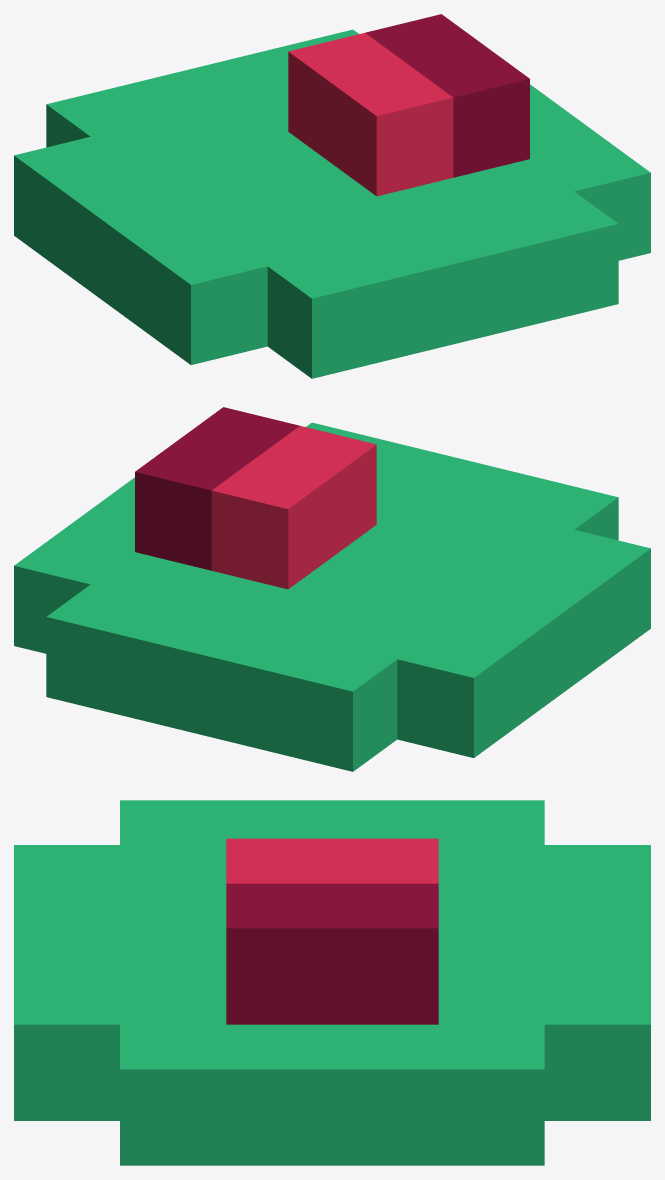
File: water-flower-01.glb
3 renders of one model, top to bottom at view 1: azimuth 30°, elevation 25°; view 2: azimuth 150°, elevation 25°; view 3: azimuth 270°, elevation 25°, orthographic. The views are drawn at different scales.
Parts seen in each view (by area): view 1: generated(Clone); view 2: generated(Clone); view 3: generated(Clone).
Part boxes in pixels (x1,y1,x2,y2): generated(Clone): [14, 14, 650, 378]; generated(Clone): [14, 407, 650, 771]; generated(Clone): [14, 800, 650, 1165].
Size of the model in its own units: 6 by 2 by 6.
1 material, 1 textured.
